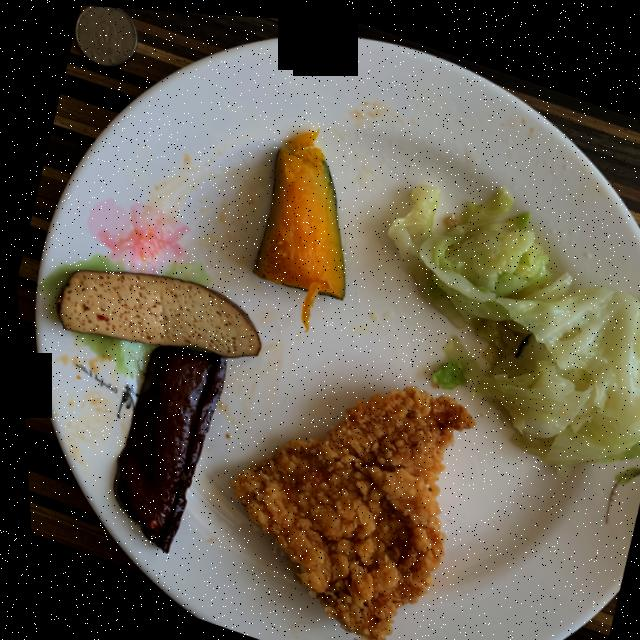cabbage: (384, 178, 640, 459)
coin: (73, 5, 136, 65)
firm tofu: (51, 268, 256, 550)
fried chicken cutlet: (225, 380, 468, 638)
pumpkin: (249, 126, 341, 325)
